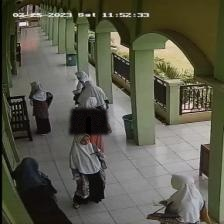Cadar_Niqab: (68, 96, 108, 134)
